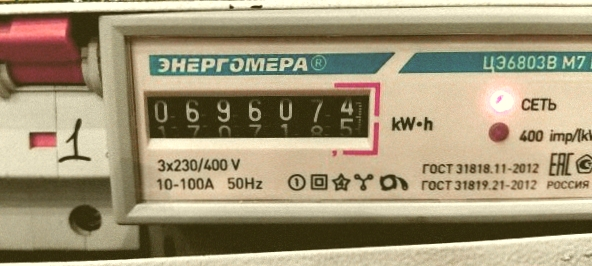0: (151, 97, 169, 122), (277, 95, 294, 121)
4: (339, 95, 354, 116)
5: (339, 117, 353, 136)
6: (246, 95, 263, 122), (182, 97, 200, 122)
7: (308, 96, 325, 122)
9: (214, 97, 231, 123)
screen: (137, 77, 384, 156)
